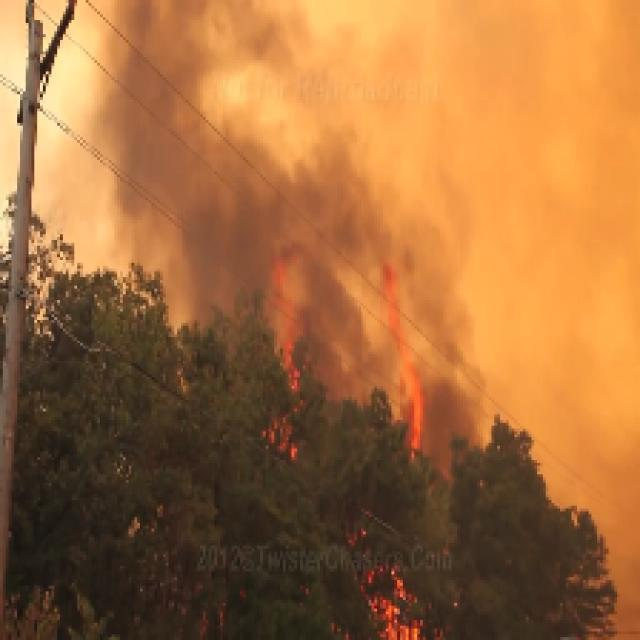Fire: (257, 255, 446, 640)
Smoke: (94, 0, 523, 329)
